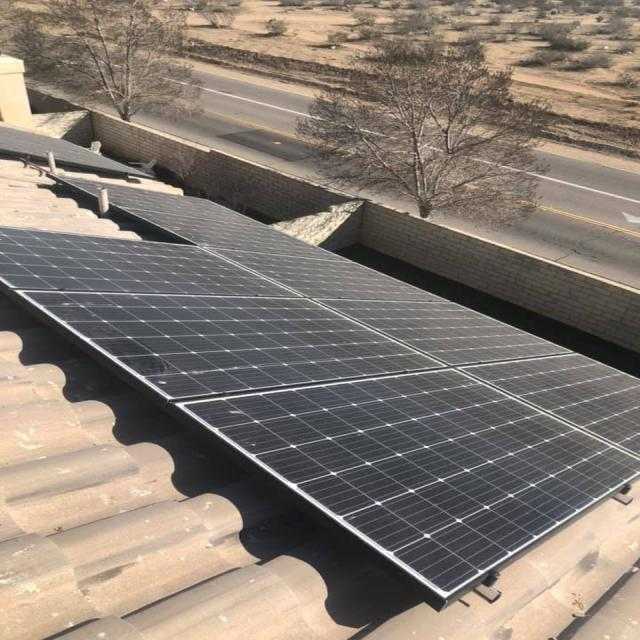dust-solar-panel: (0, 173, 640, 599)
